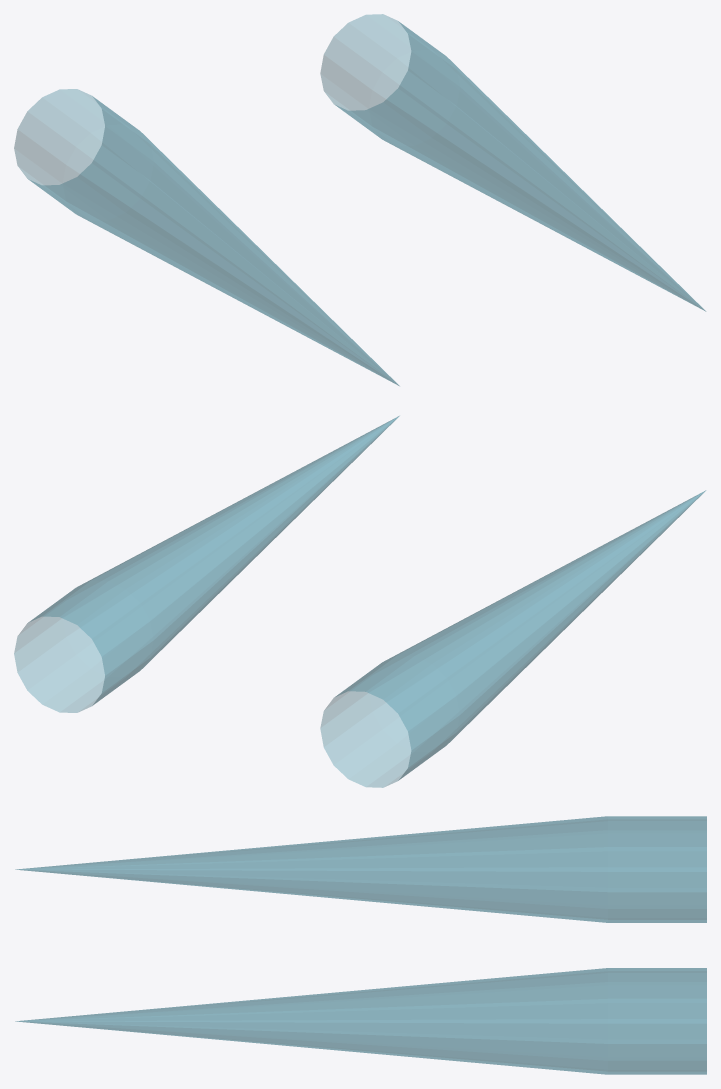
File: Bunner_FRR31NG.obj
The picture shows the model from 3 angles, top to bottom: view 1: azimuth 30°, elevation 25°; view 2: azimuth 150°, elevation 25°; view 3: azimuth 270°, elevation 25°; orthographic projection.
Visible parts, largest first — view 1: ShapeIndexedFaceSet.082_ShapeIndexedFaceSet.083, ShapeIndexedFaceSet.083_ShapeIndexedFaceSet.084; view 2: ShapeIndexedFaceSet.083_ShapeIndexedFaceSet.084, ShapeIndexedFaceSet.082_ShapeIndexedFaceSet.083; view 3: ShapeIndexedFaceSet.083_ShapeIndexedFaceSet.084, ShapeIndexedFaceSet.082_ShapeIndexedFaceSet.083.
Part boxes in pixels (bbox=[...]): ShapeIndexedFaceSet.082_ShapeIndexedFaceSet.083: bbox=[14, 89, 399, 385]; ShapeIndexedFaceSet.083_ShapeIndexedFaceSet.084: bbox=[320, 14, 705, 311]; ShapeIndexedFaceSet.083_ShapeIndexedFaceSet.084: bbox=[14, 416, 399, 712]; ShapeIndexedFaceSet.082_ShapeIndexedFaceSet.083: bbox=[320, 490, 705, 787]; ShapeIndexedFaceSet.083_ShapeIndexedFaceSet.084: bbox=[15, 968, 706, 1074]; ShapeIndexedFaceSet.082_ShapeIndexedFaceSet.083: bbox=[15, 816, 706, 922].
Size of the model in its own units: 52.26 by 11.99 by 77.7.
